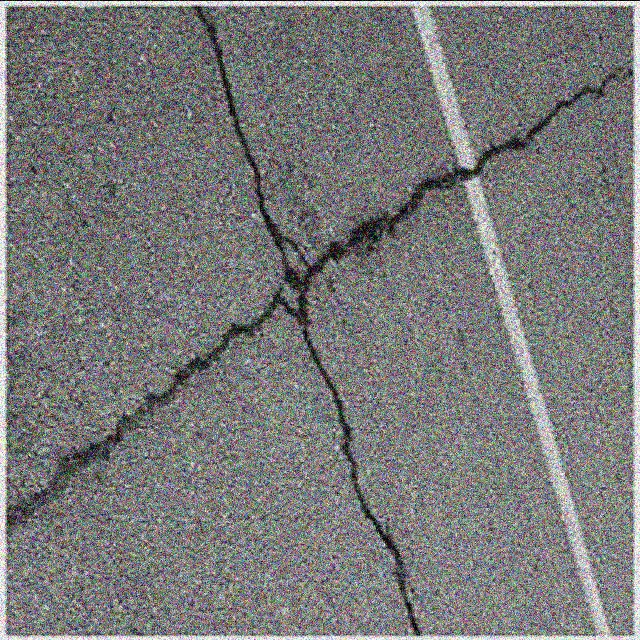SurfaceCrack: (8, 6, 450, 629)
